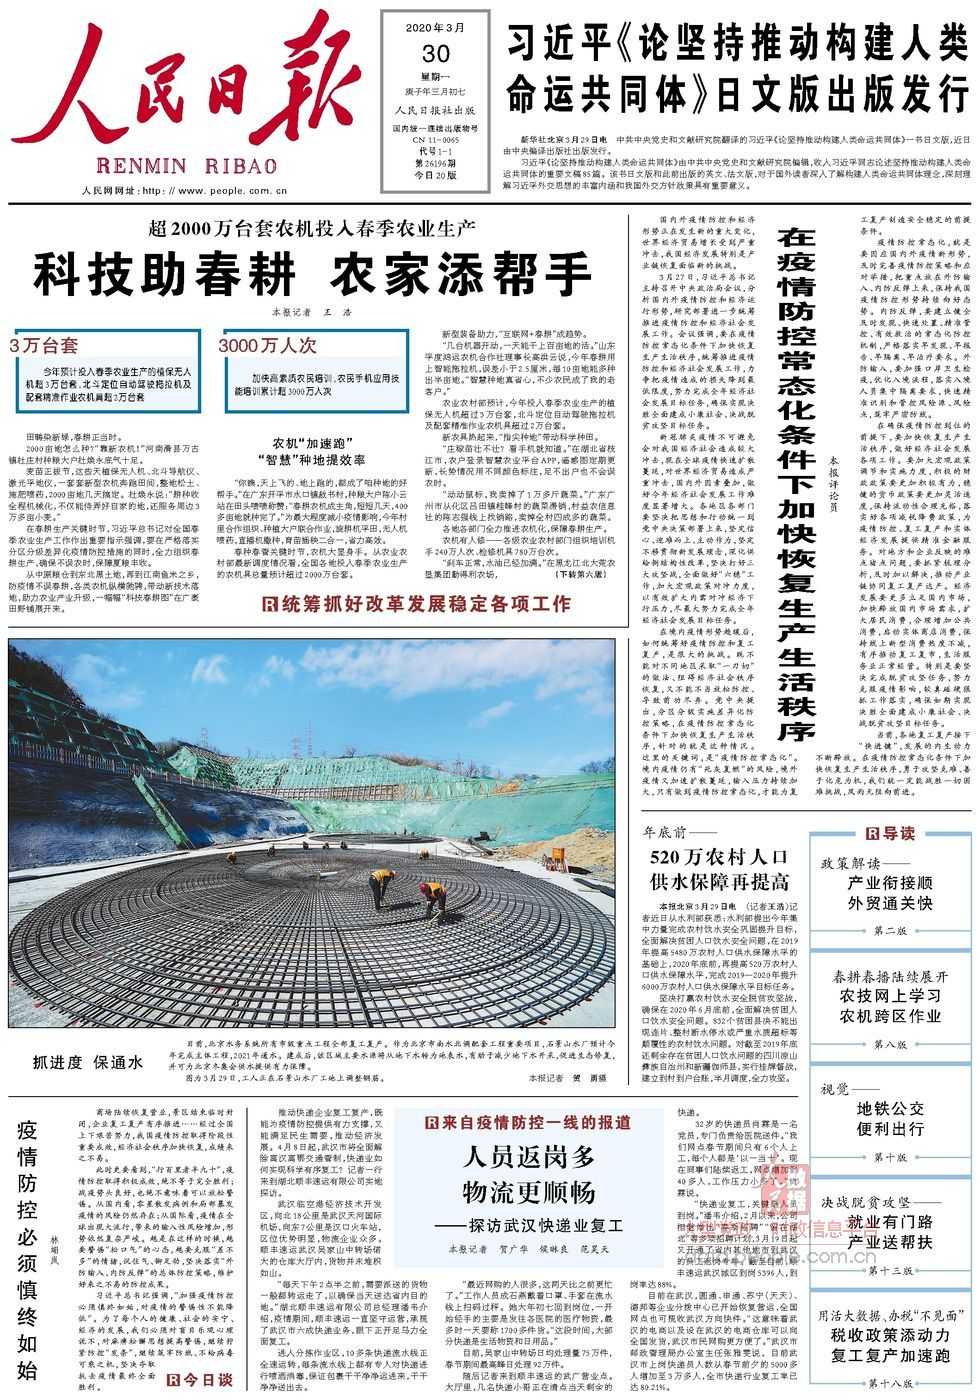pic: (6, 634, 621, 1034)
